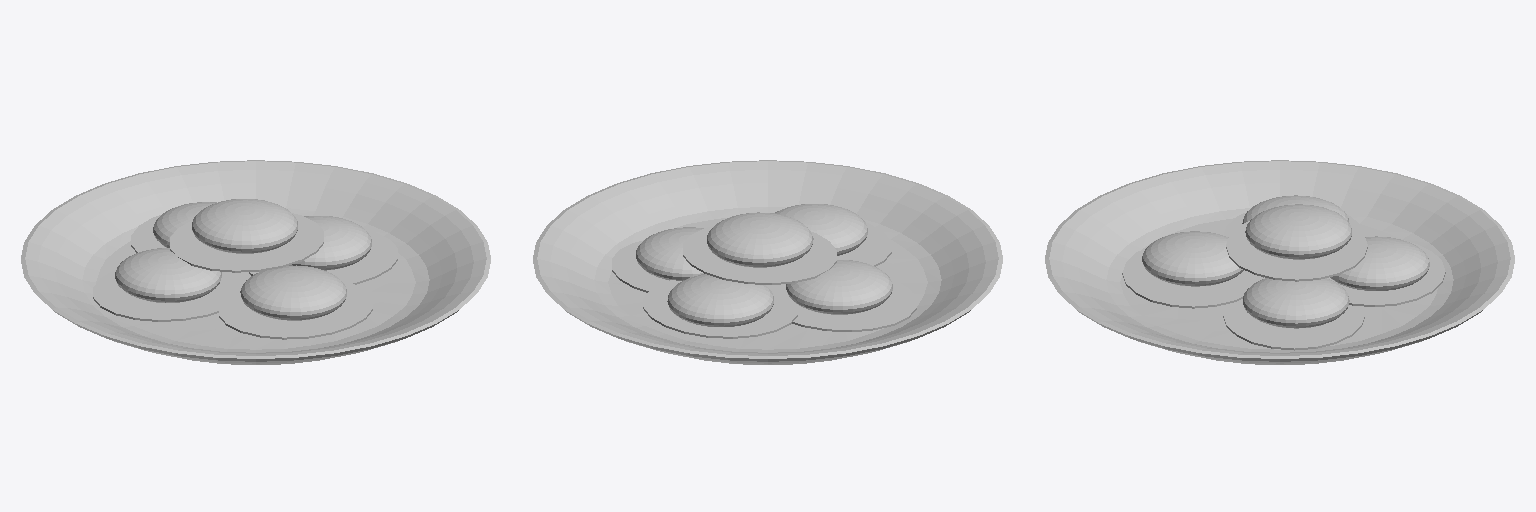
File: KUE CIKAK.obj
3 views of the same model, side by side, from view 1: azimuth 30°, elevation 25°; view 2: azimuth 150°, elevation 25°; view 3: azimuth 270°, elevation 25° (orthographic).
Visible parts, largest first — view 1: Cylinder, Sphere.004, Sphere.003, Sphere.002, Cylinder.004, Cylinder.005, Cylinder.003, Sphere.001, Cylinder.002, Sphere, Cylinder.001; view 2: Cylinder, Sphere.004, Sphere, Sphere.002, Cylinder.005, Cylinder.001, Cylinder.003, Sphere.003, Sphere.001, Cylinder.002, Cylinder.004; view 3: Cylinder, Sphere.004, Sphere.001, Sphere.003, Cylinder.005, Cylinder.002, Sphere, Cylinder.004, Cylinder.001, Sphere.002.
Part boxes in pixels (left/top/right/bottom): Cylinder: left=21, top=160, right=490, bottom=364; Sphere.004: left=192, top=199, right=297, bottom=253; Sphere.003: left=240, top=265, right=346, bottom=320; Sphere.002: left=115, top=248, right=221, bottom=302; Cylinder.004: left=219, top=280, right=372, bottom=339; Cylinder.005: left=170, top=213, right=323, bottom=272; Cylinder.003: left=93, top=269, right=246, bottom=321; Sphere.001: left=289, top=216, right=371, bottom=270; Cylinder.002: left=249, top=230, right=397, bottom=284; Sphere: left=153, top=202, right=216, bottom=247; Cylinder.001: left=131, top=215, right=165, bottom=252; Cylinder: left=533, top=160, right=1002, bottom=364; Sphere.004: left=707, top=212, right=813, bottom=267; Sphere: left=667, top=274, right=773, bottom=326; Sphere.002: left=786, top=260, right=892, bottom=314; Cylinder.005: left=683, top=226, right=836, bottom=284; Cylinder.001: left=643, top=280, right=797, bottom=338; Cylinder.003: left=773, top=278, right=916, bottom=331; Sphere.003: left=775, top=204, right=867, bottom=255; Sphere.001: left=636, top=227, right=703, bottom=280; Cylinder.002: left=612, top=240, right=668, bottom=292; Cylinder.004: left=837, top=223, right=891, bottom=266; Cylinder: left=1045, top=160, right=1514, bottom=364; Sphere.004: left=1245, top=204, right=1351, bottom=259; Sphere.001: left=1243, top=278, right=1349, bottom=328; Sphere.003: left=1142, top=231, right=1243, bottom=286; Cylinder.005: left=1226, top=221, right=1367, bottom=281; Cylinder.002: left=1223, top=299, right=1364, bottom=350; Sphere: left=1330, top=236, right=1429, bottom=290; Cylinder.004: left=1122, top=248, right=1263, bottom=308; Cylinder.001: left=1327, top=242, right=1445, bottom=306; Sphere.002: left=1242, top=195, right=1348, bottom=223.
Bounding box in the file's own units: 2.31 × 0.423 × 2.31.